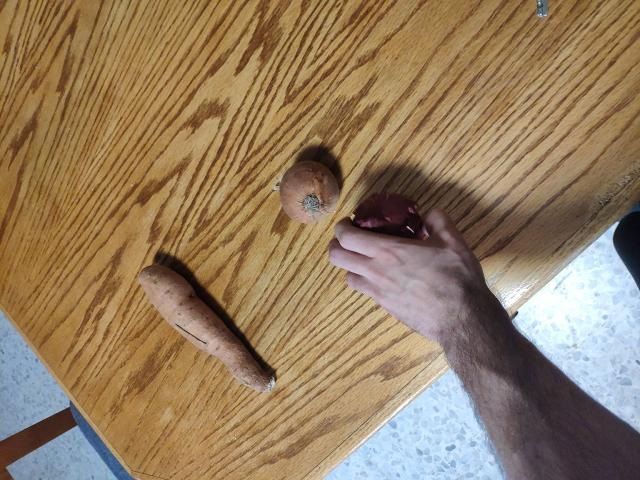onion: (283, 170, 341, 218)
